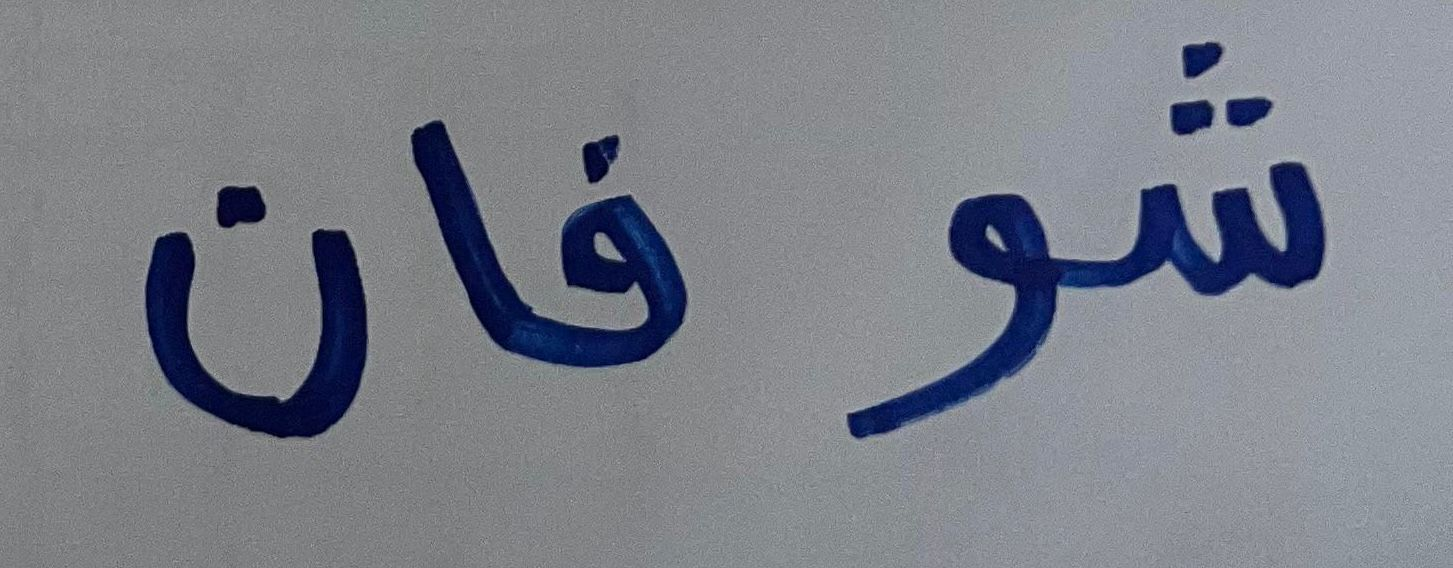alef: (399, 83, 528, 396)
noon: (109, 140, 388, 459)
qaf: (534, 123, 726, 420)
sheen: (1071, 8, 1359, 351)
waw: (778, 172, 1065, 464)
